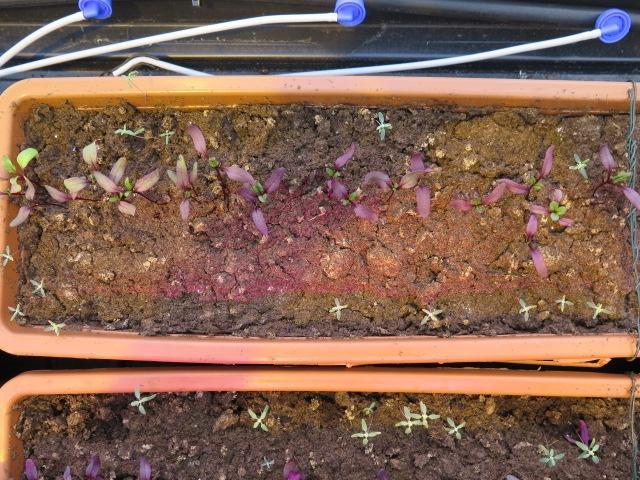weed: (125, 380, 159, 419), (345, 413, 383, 447), (412, 302, 448, 328), (242, 402, 272, 433), (511, 293, 539, 326), (582, 295, 615, 322), (370, 107, 394, 144), (324, 293, 350, 324), (564, 151, 591, 180), (441, 414, 468, 441), (550, 288, 576, 313), (39, 316, 67, 338), (25, 274, 48, 299), (3, 299, 25, 322)
